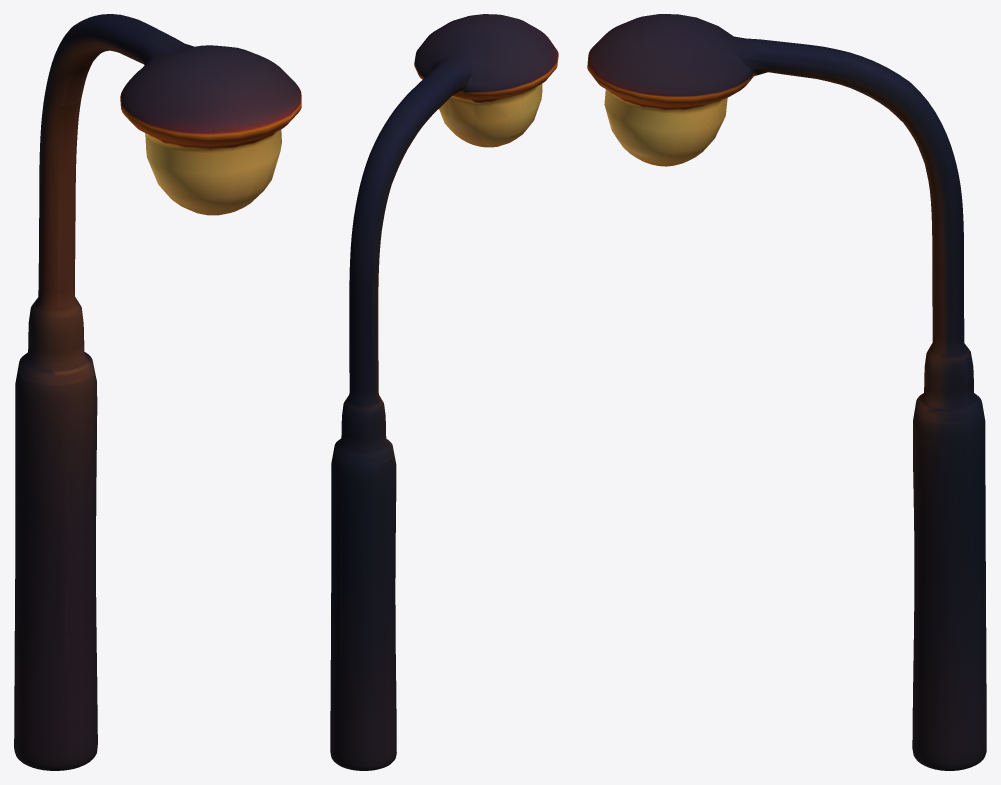
Rendered from Poste.fbx.
3 views of the same model, side by side, from view 1: azimuth 30°, elevation 25°; view 2: azimuth 150°, elevation 25°; view 3: azimuth 270°, elevation 25° (orthographic). The views are drawn at different scales.
Parts seen in each view (by area): view 1: Retopo_model; view 2: Retopo_model; view 3: Retopo_model.
Boxes of the visible parts, left/top/right/bottom form: Retopo_model: left=14, top=14, right=301, bottom=770; Retopo_model: left=330, top=14, right=558, bottom=770; Retopo_model: left=587, top=14, right=986, bottom=770.
Size of the model in its own units: 38.44 by 190 by 93.57.
1 material, 1 textured.
